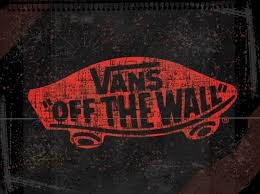vans: (90, 61, 164, 94)
